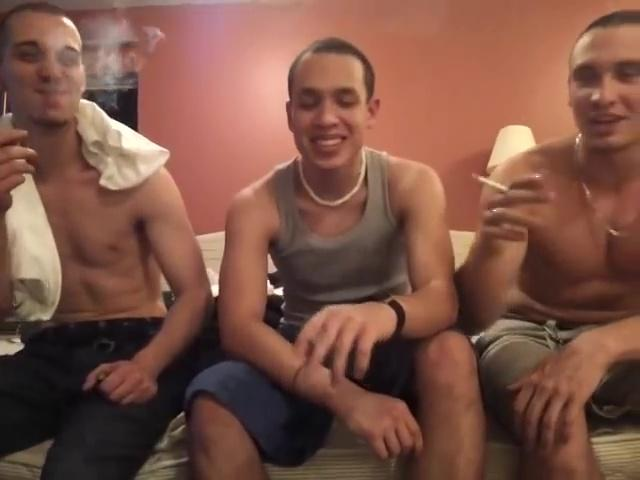cigarette: (473, 173, 514, 196)
